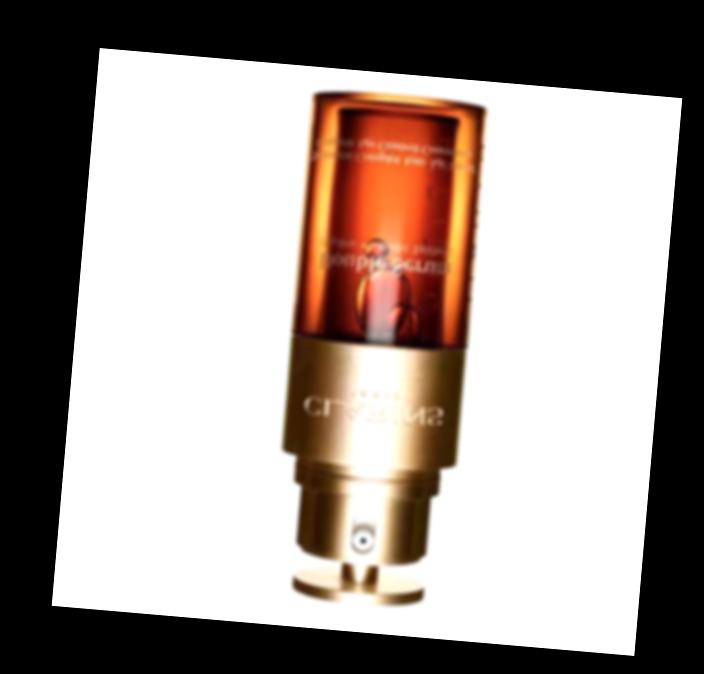cosmetic: (261, 92, 489, 618)
